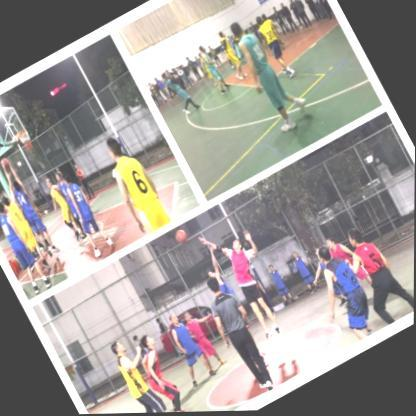basketball: (174, 227, 191, 245)
